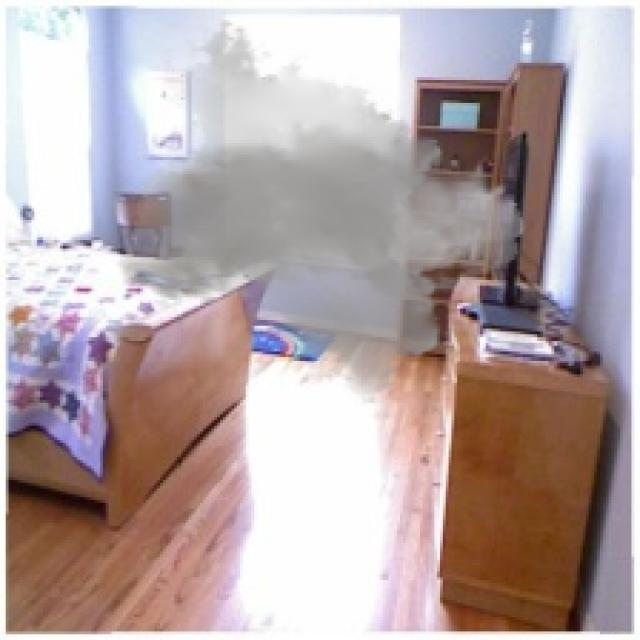smoke: (117, 17, 526, 406)
